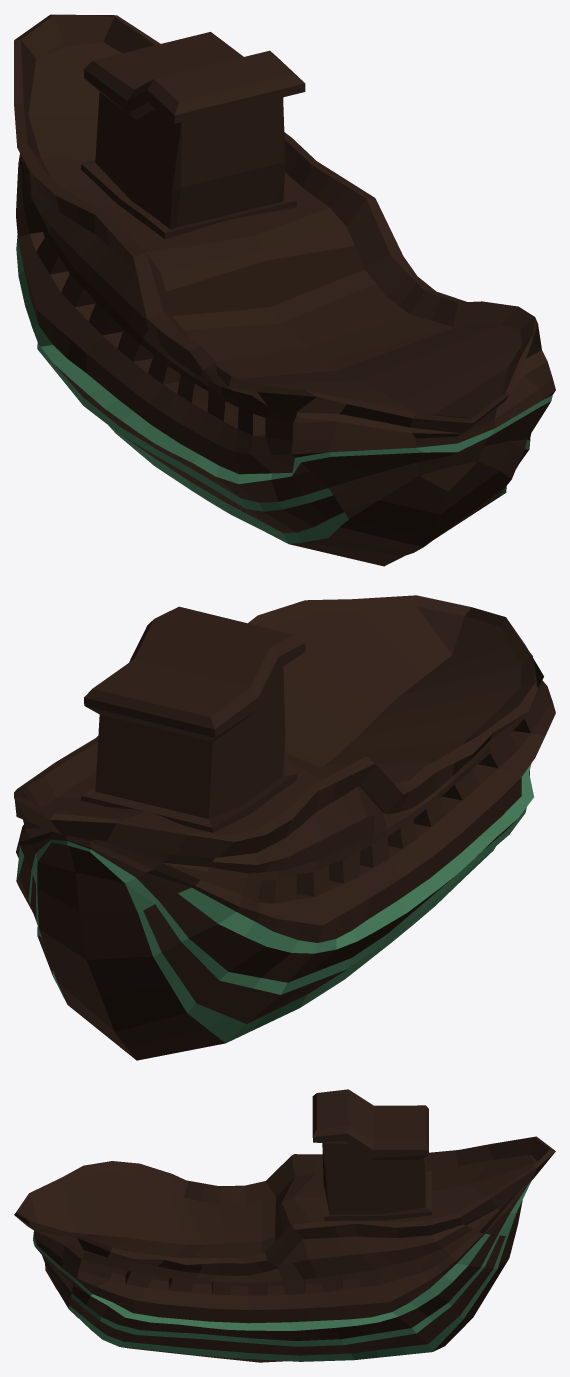
Rendered from 26-11_Collider_ship_v1.fbx.
The picture shows the model from 3 angles, top to bottom: view 1: azimuth 30°, elevation 25°; view 2: azimuth 150°, elevation 25°; view 3: azimuth 270°, elevation 25°; orthographic projection. The views are drawn at different scales.
Parts seen in each view (by area): view 1: Mesh; view 2: Mesh; view 3: Mesh.
Boxes of the visible parts, <box> form: Mesh: <box>14,14,555,566</box>; Mesh: <box>14,595,555,1060</box>; Mesh: <box>14,1089,555,1362</box>.
Bounding box in the file's own units: 947 × 1185 × 2282.
